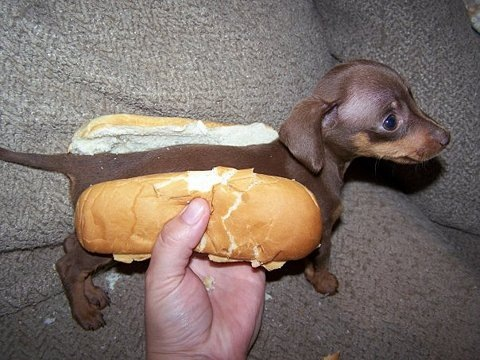dog: (11, 53, 454, 311)
